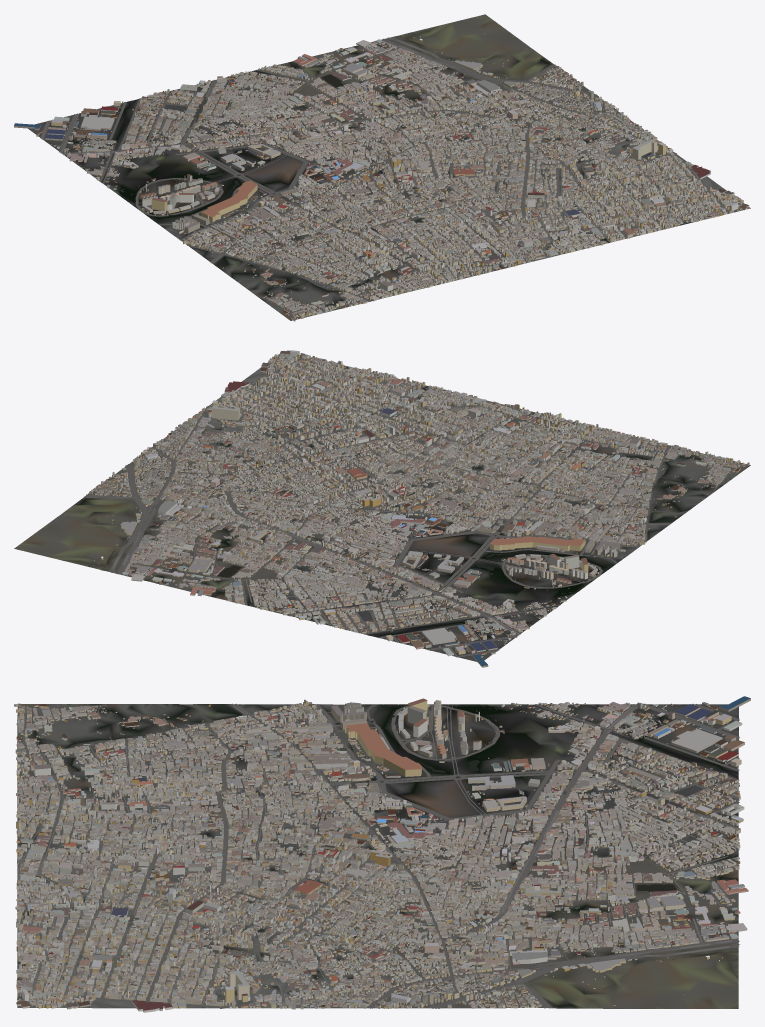
3 views of the same model, one above another, from view 1: azimuth 30°, elevation 25°; view 2: azimuth 150°, elevation 25°; view 3: azimuth 270°, elevation 25° (orthographic). The views are drawn at different scales.
Parts seen in each view (by area): view 1: buildings, ground, roads; view 2: buildings, ground, roads; view 3: buildings, ground, roads, water.
Boxes of the visible parts, x1=… form: buildings: x1=14, y1=33, x2=749, y2=321; ground: x1=28, y1=14, x2=750, y2=320; roads: x1=40, y1=37, x2=729, y2=319; buildings: x1=55, y1=350, x2=749, y2=667; ground: x1=14, y1=351, x2=750, y2=661; roads: x1=84, y1=358, x2=745, y2=657; buildings: x1=14, y1=696, x2=750, y2=1012; ground: x1=17, y1=704, x2=738, y2=1008; roads: x1=17, y1=703, x2=739, y2=1008; water: x1=75, y1=704, x2=737, y2=959.
Size of the model in its own units: 2897 by 65.78 by 2862.
